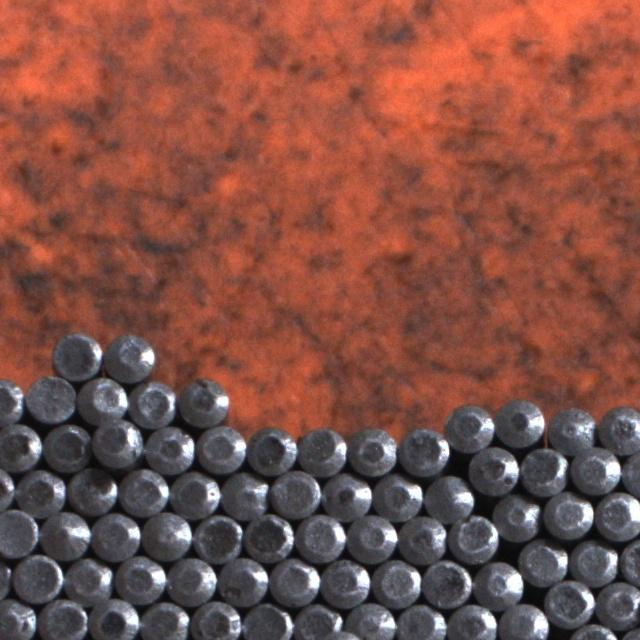tool: (444, 400, 496, 453), (398, 424, 450, 476), (23, 372, 76, 423), (467, 444, 518, 496), (544, 575, 594, 628), (421, 557, 472, 608), (192, 512, 242, 564), (244, 512, 294, 564), (519, 444, 569, 495), (347, 425, 397, 476), (397, 513, 447, 564), (346, 512, 396, 563), (50, 330, 101, 380), (318, 557, 368, 607), (218, 555, 268, 605), (142, 510, 192, 560), (167, 468, 217, 518), (496, 398, 546, 448), (296, 424, 346, 474), (321, 471, 371, 521), (107, 331, 157, 381), (41, 509, 90, 560), (269, 556, 318, 606), (543, 490, 593, 539), (13, 552, 62, 602), (145, 424, 194, 474), (372, 472, 422, 521), (117, 466, 166, 516), (90, 511, 139, 561), (295, 512, 344, 562), (167, 554, 216, 604), (115, 553, 164, 603), (196, 423, 245, 473), (42, 422, 91, 472), (492, 492, 542, 541), (474, 558, 524, 607), (67, 464, 116, 514), (92, 418, 142, 467), (424, 473, 474, 522), (178, 379, 228, 428), (548, 402, 596, 453), (219, 470, 268, 519), (246, 427, 295, 476), (570, 447, 619, 496), (269, 468, 319, 516), (450, 512, 498, 562), (64, 554, 112, 603), (15, 468, 64, 516), (80, 375, 128, 424), (373, 558, 421, 606), (570, 537, 618, 585), (518, 538, 566, 586), (128, 378, 176, 426), (594, 490, 640, 540), (595, 578, 640, 627), (38, 596, 88, 640), (88, 596, 138, 640), (598, 403, 640, 454), (190, 600, 242, 640), (0, 422, 41, 472), (498, 601, 550, 640), (140, 600, 190, 640), (347, 600, 396, 640), (243, 601, 293, 640), (292, 601, 342, 640), (0, 508, 40, 556), (446, 602, 496, 640), (396, 602, 444, 640), (0, 597, 34, 640), (0, 376, 22, 427), (619, 536, 640, 586)
